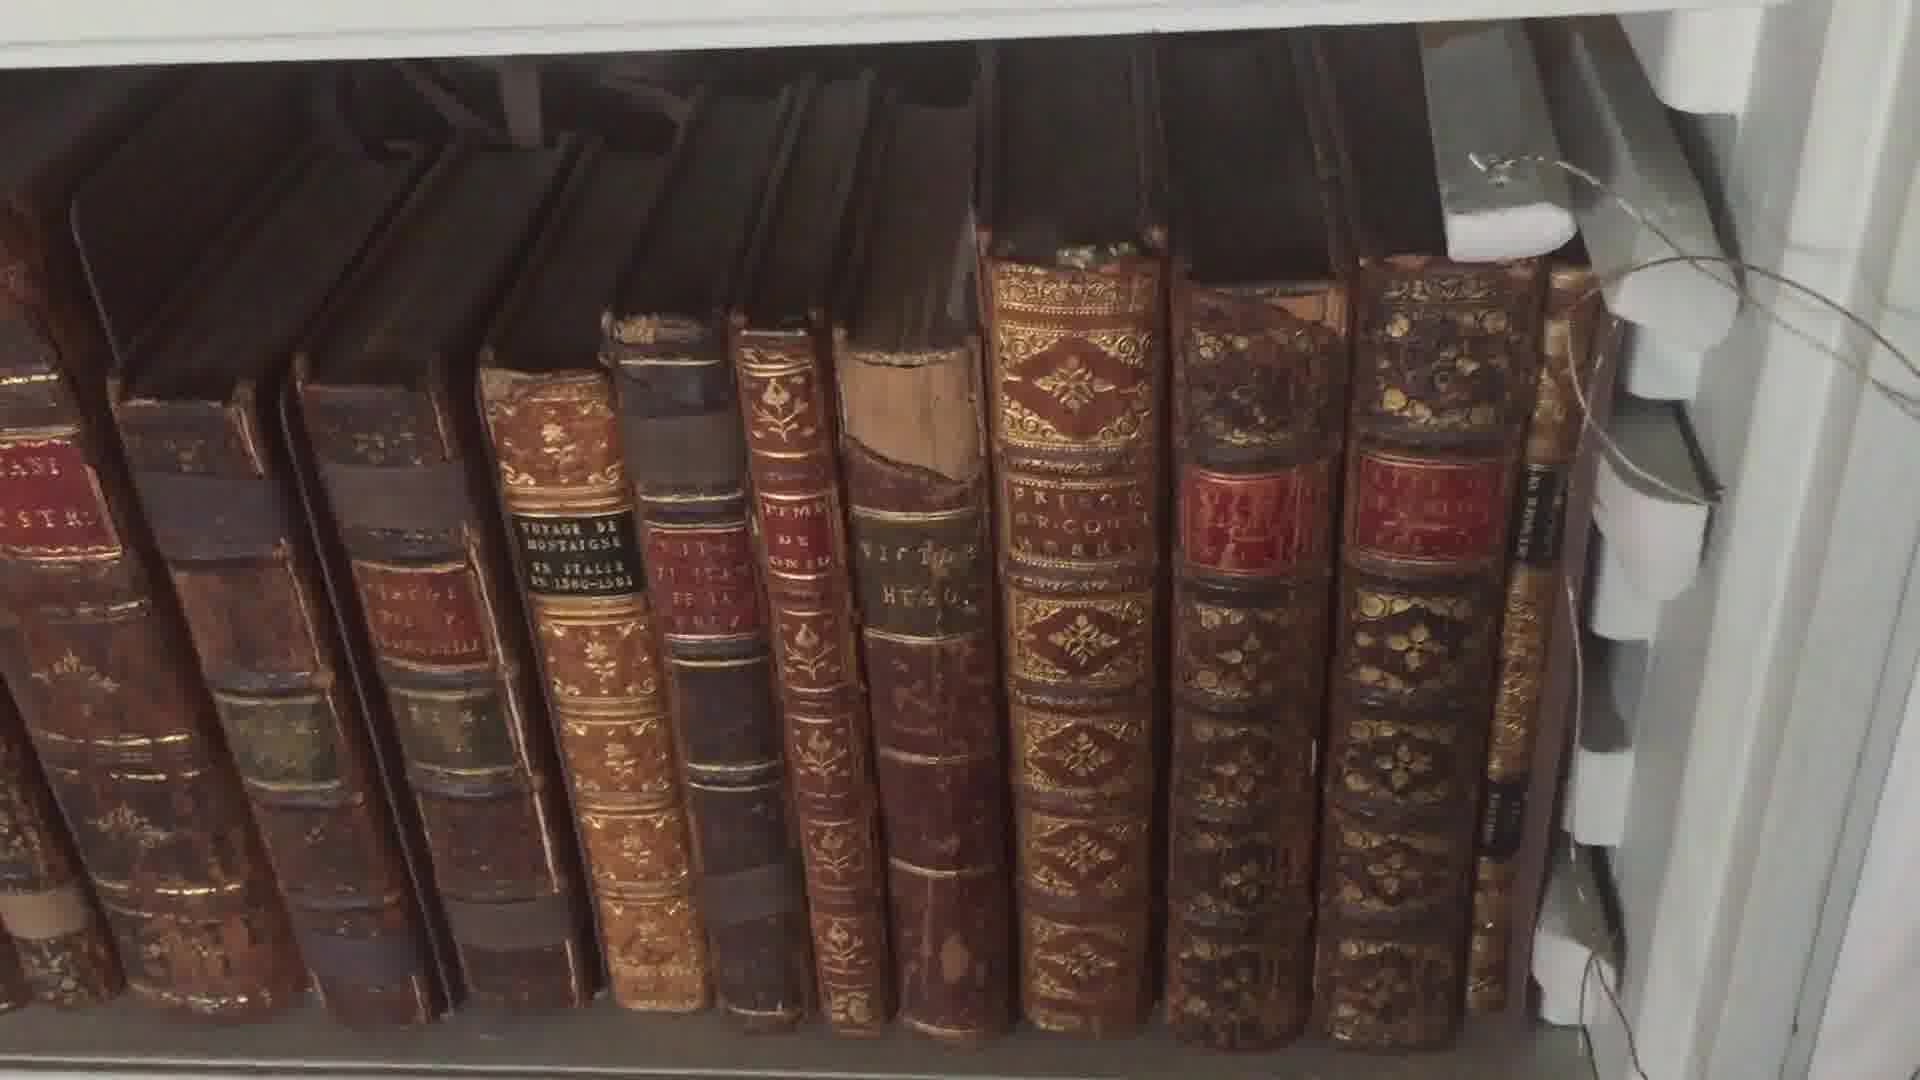Aa6-39_40: (80, 367, 629, 1031)
Aa6-41: (465, 361, 736, 1029)
Aa6-42: (593, 327, 853, 1044)
Aa6-43: (724, 322, 905, 1048)
Aa6-44: (825, 319, 1051, 1031)
Aa6-45: (945, 270, 1158, 1036)
Aa6-46-47: (1172, 278, 1485, 1077)
Aa6-48: (1480, 258, 1619, 1062)
